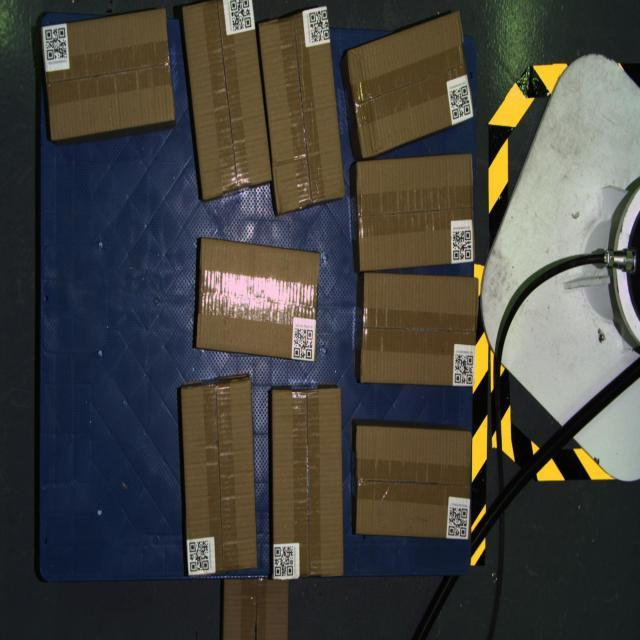box: (346, 10, 474, 160), (258, 6, 345, 214), (182, 0, 272, 201), (41, 8, 175, 142), (196, 240, 320, 362), (181, 380, 258, 576), (356, 154, 474, 272), (272, 388, 344, 580), (361, 273, 478, 387), (356, 426, 472, 540)
